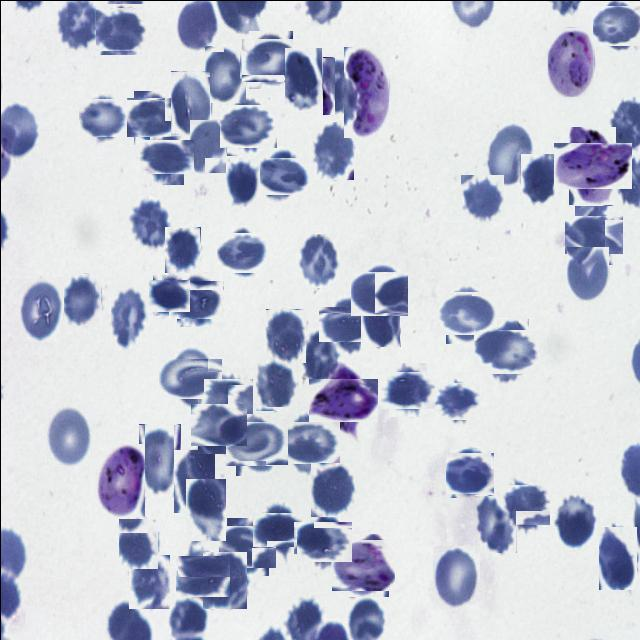difficult: (96, 443, 144, 516), (547, 26, 594, 96)
red blood cell: (484, 121, 531, 188), (138, 423, 180, 496), (478, 324, 534, 378), (432, 545, 479, 609), (230, 416, 284, 471), (46, 403, 91, 466), (18, 276, 62, 340), (280, 416, 334, 468), (440, 286, 492, 338), (164, 352, 216, 404), (244, 34, 296, 84), (173, 449, 214, 512), (170, 70, 210, 134), (222, 101, 273, 151), (553, 490, 596, 549), (202, 551, 246, 608), (222, 521, 272, 571), (297, 516, 347, 566), (354, 268, 404, 318), (193, 400, 243, 450), (185, 478, 225, 540), (474, 494, 516, 552), (284, 46, 322, 110), (204, 45, 246, 102), (598, 526, 636, 589), (312, 121, 353, 179), (310, 462, 354, 516), (569, 210, 617, 259), (110, 284, 146, 349), (324, 300, 372, 348), (178, 552, 226, 600), (360, 289, 400, 346), (297, 233, 339, 287), (566, 246, 608, 300), (498, 481, 546, 528), (96, 5, 144, 52), (128, 554, 169, 608), (172, 275, 219, 322), (255, 357, 296, 410), (265, 308, 305, 362), (127, 199, 170, 249), (130, 94, 176, 140), (258, 152, 304, 198), (219, 229, 265, 275), (384, 366, 430, 412), (594, 2, 640, 48), (300, 328, 339, 382), (460, 174, 503, 222), (118, 517, 158, 568), (447, 450, 492, 495), (63, 272, 101, 325), (189, 118, 226, 172), (257, 507, 301, 552), (322, 56, 356, 114), (80, 94, 124, 138), (144, 134, 188, 178), (206, 374, 248, 418), (436, 379, 477, 422), (225, 157, 260, 206), (520, 153, 554, 202), (164, 226, 200, 272), (150, 276, 187, 313)
ring: (333, 536, 391, 594)
trophozoite: (343, 46, 388, 137), (560, 134, 622, 196), (314, 372, 370, 428)
